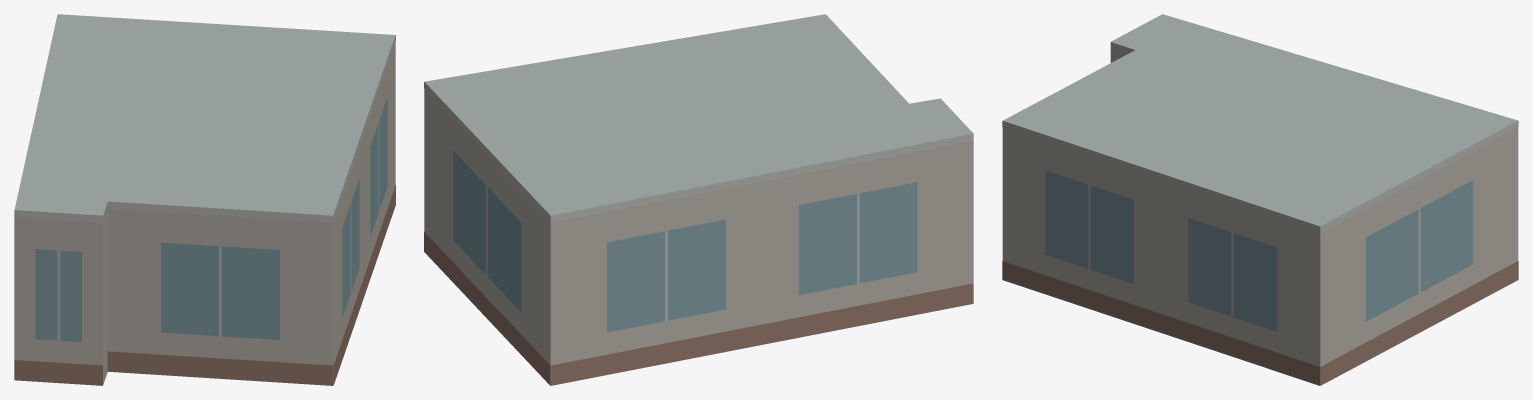
The model's file is survey-upis-32761261.glb.
3 renders of one model, left to right at view 1: azimuth 30°, elevation 25°; view 2: azimuth 150°, elevation 25°; view 3: azimuth 270°, elevation 25°, orthographic. The views are drawn at different scales.
Visible parts, largest first — view 1: survey-upis-32761261.tmp; view 2: survey-upis-32761261.tmp; view 3: survey-upis-32761261.tmp.
Part boxes in pixels (left/top/right/bottom): survey-upis-32761261.tmp: left=14, top=14, right=395, bottom=385; survey-upis-32761261.tmp: left=424, top=14, right=973, bottom=385; survey-upis-32761261.tmp: left=1002, top=14, right=1518, bottom=385.
Size of the model in its own units: 8.74 by 3.05 by 8.96.
